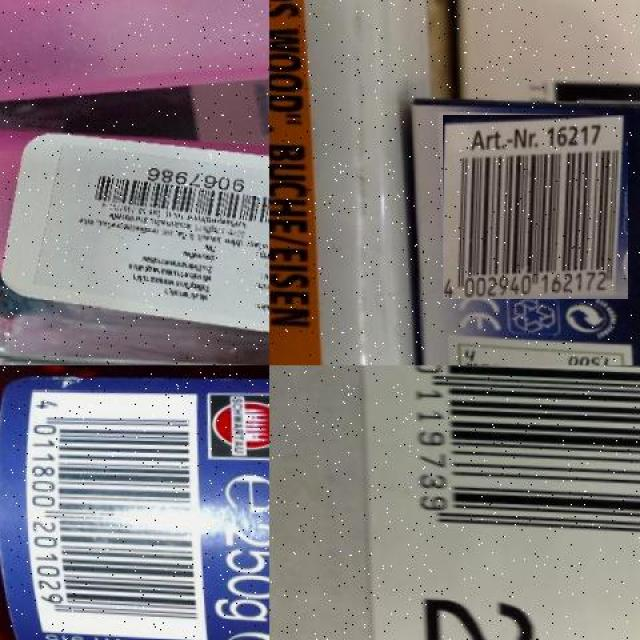Barcode: (388, 365, 640, 576), (24, 391, 208, 638), (443, 115, 628, 300), (70, 164, 270, 236)
